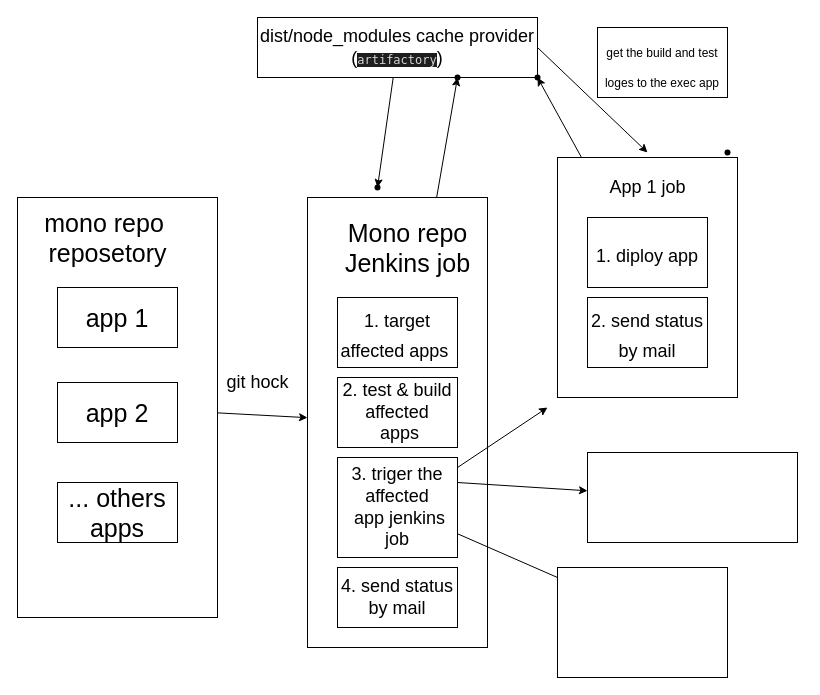
Some shapes in this 820 by 695 pixel diagram are drawn without their labels. Here are the shapes that lost their labels. From the top down, the centre of each, then its label:
At point (692, 497): "App 2 job *some floow as app 1 job".
At point (642, 622): "App 3 job *same floow as app 1 job".
